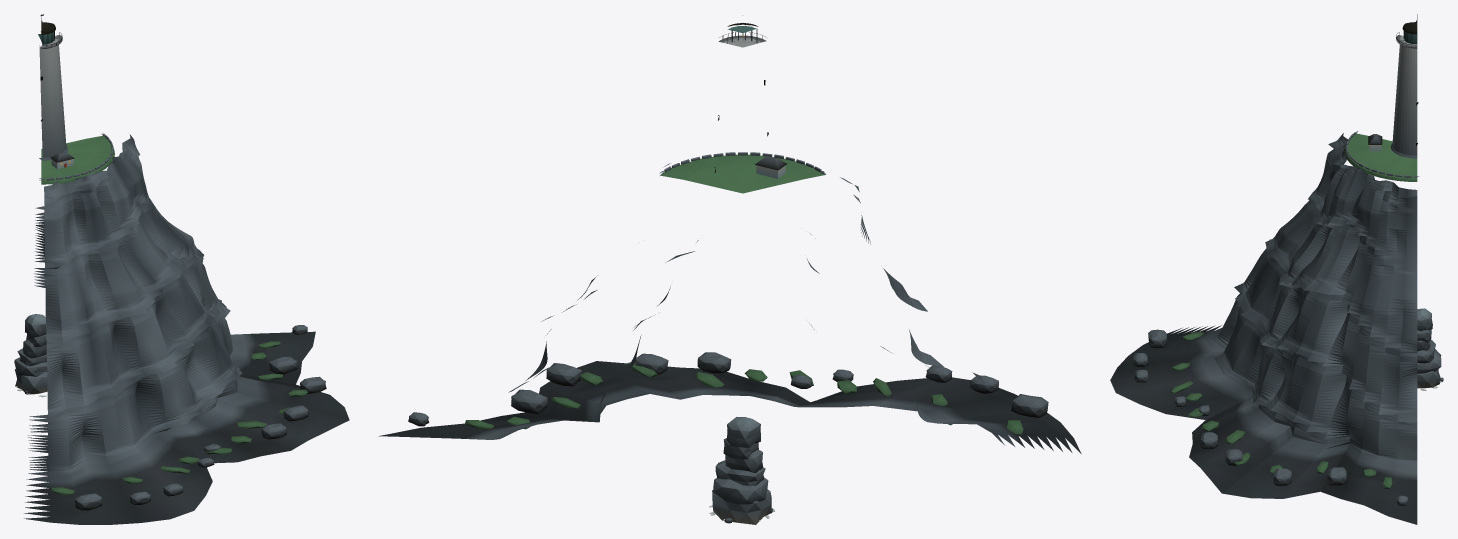
The model's file is coast-s1-DUZovSJT.glb.
3 views of the same model, side by side, from view 1: azimuth 30°, elevation 25°; view 2: azimuth 150°, elevation 25°; view 3: azimuth 270°, elevation 25° (orthographic). The views are drawn at different scales.
Visible parts, largest first — view 1: sc_landmark_2, sc_stack_0; view 2: sc_landmark_2, sc_stack_0; view 3: sc_landmark_2, sc_stack_0.
Boxes of the visible parts, box(x1,y1,x2,y2) form: sc_landmark_2: box(24, 14, 349, 524); sc_stack_0: box(14, 314, 47, 397); sc_landmark_2: box(378, 23, 1081, 453); sc_stack_0: box(709, 417, 774, 524); sc_landmark_2: box(1110, 14, 1419, 524); sc_stack_0: box(1417, 308, 1443, 390).
Bounding box in the file's own units: 359 × 320 × 256.
